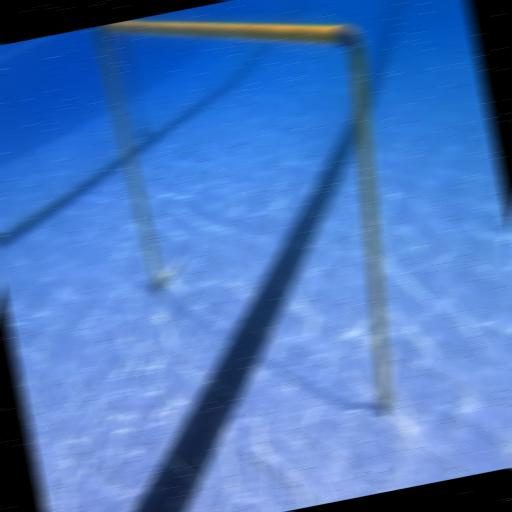gate: (93, 0, 435, 456)
